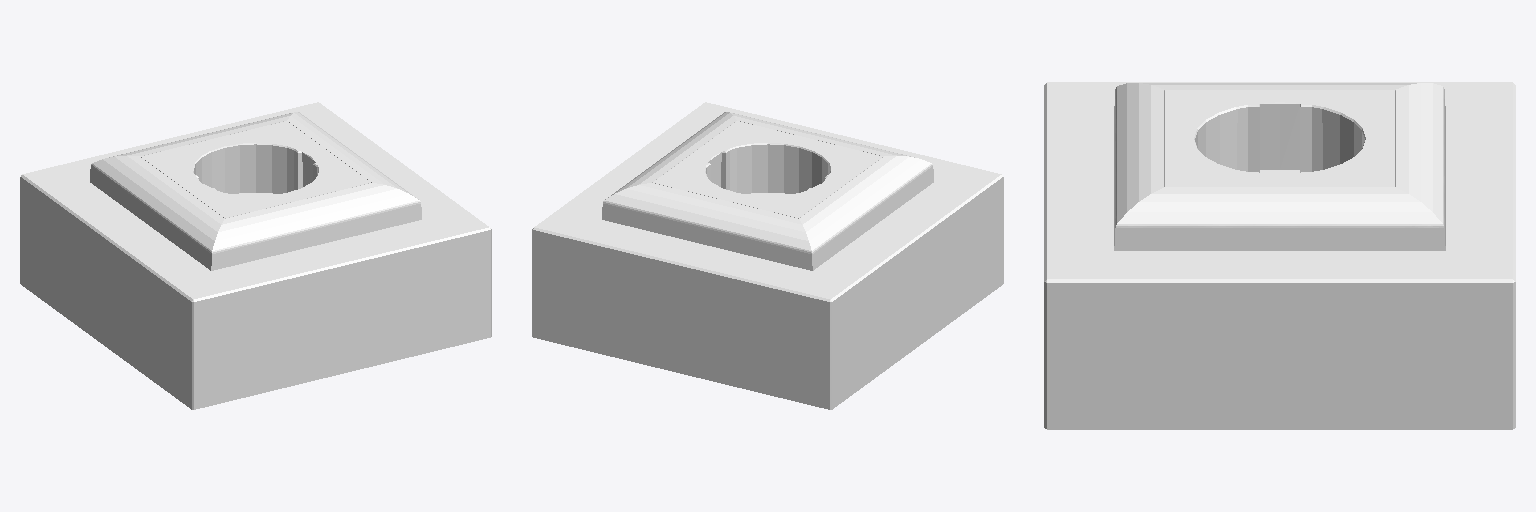
URDF robot description (Socket_EU):
<?xml version="1.0" ?>
<robot name="Socket_EU">
 <link concave="yes" name="baseLink">
   <contact>
     <lateral_friction value="0.5"/>
   </contact>
   <inertial>
     <origin rpy="0 0 0" xyz="0.0 0.0 0.0"/>
      <mass value="1.0"/>
      <inertia ixx="0" ixy="0" ixz="0" iyy="0" iyz="0" izz="0"/>
   </inertial>
   <visual>
     <origin rpy="0 0 0" xyz="0 0 0"/>
     <geometry>
       <mesh filename="package://bopt_gmm/objects/electrical_plugs/Socket_EU.obj" scale="1.0 1.0 1.0"/>
     </geometry>
      <material name="white">
       <color rgba="1 1 1 1"/>
     </material>
   </visual>
   <collision concave="yes">
     <origin rpy="0 0 0" xyz="0 0 0"/>
     <geometry>
       <mesh filename="package://bopt_gmm/objects/electrical_plugs/Socket_EU.obj" scale="1.0 1.0 1.0"/>
     </geometry>
   </collision>
 </link>
</robot>

--- Facts derived from the render (not from the file) ---
The picture shows the robot from 3 angles, left to right: view 1: azimuth 30°, elevation 25°; view 2: azimuth 150°, elevation 25°; view 3: azimuth 270°, elevation 25°; orthographic projection.
Model Socket_EU with 1 links and 0 joints (none), rooted at baseLink, posed all joints at 0.
Links seen in each view (by area): view 1: baseLink; view 2: baseLink; view 3: baseLink.
Link boxes in pixels (left/top/right/bottom): baseLink: left=20, top=102, right=491, bottom=409; baseLink: left=532, top=102, right=1003, bottom=409; baseLink: left=1044, top=82, right=1515, bottom=429.
Bounding box of the posed robot: 0.1145 × 0.1145 × 0.0514 m (x, y, z).
Meshes: 1 distinct files referenced, 1 mesh visuals loaded (1 OBJ).